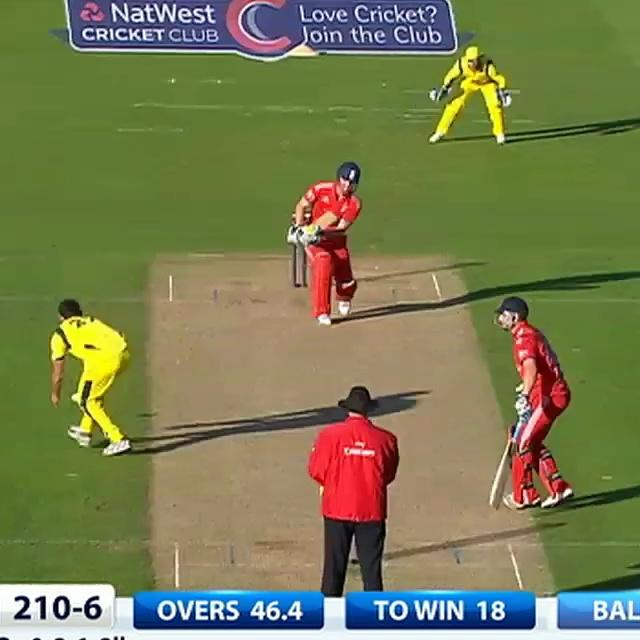umpire: (298, 380, 411, 598)
